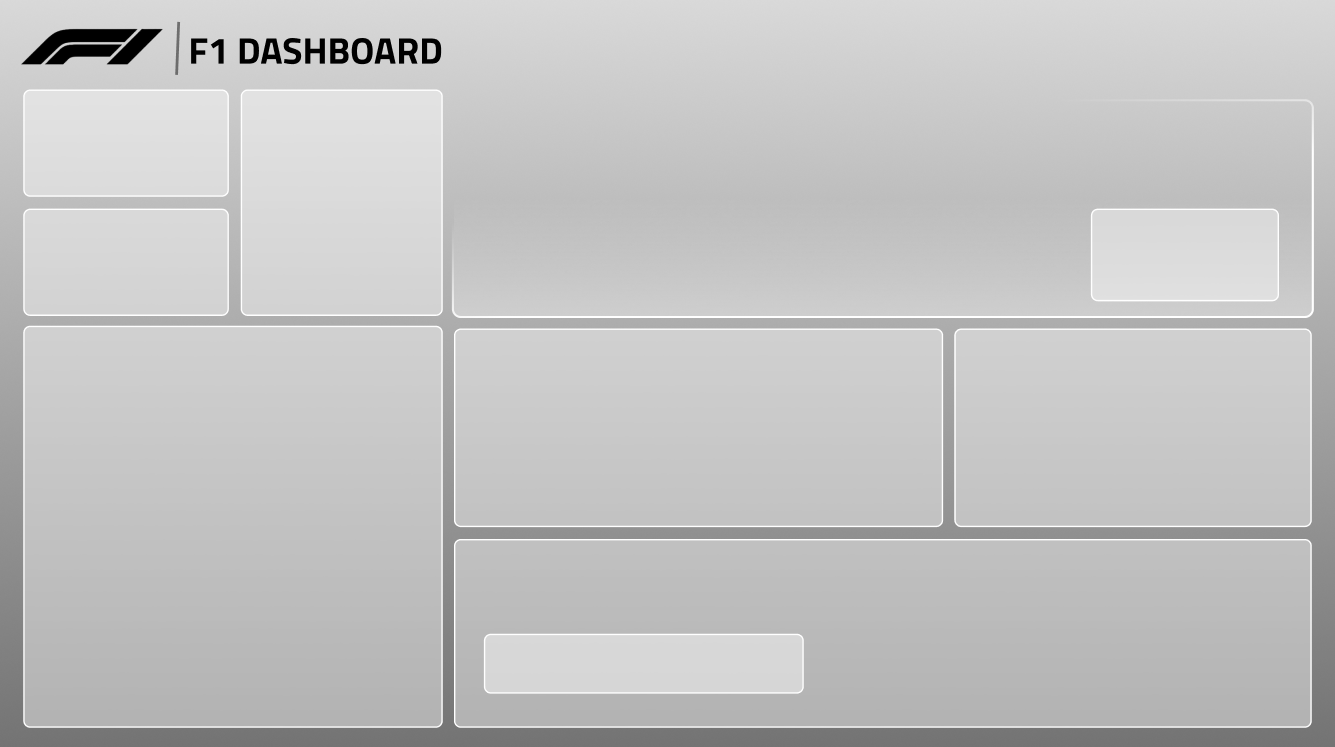

The dashboard page shown, as its layout file describes it:
{"tool":"powerbi","page":{"name":"Page 1","canvas":[1280,720],"ordinal":0},"visuals":[{"type":"cardVisual","fields":{"Data":["_Measure.Total Wins"]},"box":[27.2,90.5,188.7,93.4],"z":0},{"type":"cardVisual","title":"Constructor Points","fields":{"Data":["Sum(f1_data.DNFs)"]},"box":[689.5,578.8,76.5,79.2],"z":1},{"type":"cardVisual","fields":{"Data":["_Measure.Total Points"]},"box":[1040.7,199.4,188.7,93.4],"z":2},{"type":"cardVisual","fields":{"Data":["_Measure.Total Pole Positions"]},"box":[27.2,204.3,188.7,93.4],"z":3},{"type":"clusteredBarChart","fields":{"Category":["f1_data.Driver Name"],"Y":["_Measure.Total Points"]},"box":[27.2,325.8,390.8,364.6],"z":4},{"type":"shape","box":[526.6,183.6,490.6,62.1],"z":5},{"type":"cardVisual","fields":{"Data":["Min(url.url)"]},"box":[426.7,39.6,828.1,258.3],"z":6},{"type":"advancedSlicerVisual","fields":{"Values":["url.constructor"]},"box":[230.5,90.5,196.5,207.2],"z":7},{"type":"columnChart","title":"Podiums","fields":{"Category":["f1_data.Driver Name"],"Y":["_Measure.Total Podiums"]},"box":[446.5,320.5,451.9,178.2],"z":8},{"type":"columnChart","title":"Fasted Laps","fields":{"Category":["f1_data.Driver Name"],"Y":["_Measure.Total Fastest Laps"]},"box":[920.8,316.4,333.7,187.2],"z":9},{"type":"image","box":[152.2,116.4,62.1,39.8],"z":10},{"type":"image","box":[161.9,230.8,42.7,39.8],"z":11},{"type":"clusteredBarChart","title":"Average Position ","fields":{"Category":["f1_data.Driver Name"],"Y":["_Measure.Average Position"]},"box":[779.4,523,475.2,166.9],"z":12},{"type":"textbox","box":[473.5,618.4,185.4,39.6],"z":13},{"type":"cardVisual","fields":{"Data":["Min(f1_data.Constructor)"]},"box":[446.9,515.4,332.4,98.6],"z":14}]}

Visuals, with their boxes in screenshot pixels (x1, y1, x2, y2), scaled from the page's 1280x720 canvas onto the 1335x747 screenshot:
cardVisual - _Measure.Total Wins: BBox(28, 94, 225, 191)
"Constructor Points" cardVisual: BBox(719, 601, 799, 683)
cardVisual - _Measure.Total Points: BBox(1085, 207, 1282, 304)
cardVisual - _Measure.Total Pole Positions: BBox(28, 212, 225, 309)
clusteredBarChart - f1_data.Driver Name x _Measure.Total Points: BBox(28, 338, 436, 716)
shape: BBox(549, 190, 1061, 255)
cardVisual - Min(url.url): BBox(445, 41, 1309, 309)
advancedSlicerVisual - url.constructor: BBox(240, 94, 445, 309)
"Podiums" columnChart: BBox(466, 333, 937, 517)
"Fasted Laps" columnChart: BBox(960, 328, 1308, 522)
image: BBox(159, 121, 224, 162)
image: BBox(169, 239, 213, 281)
"Average Position " clusteredBarChart: BBox(813, 543, 1309, 716)
textbox: BBox(494, 642, 687, 683)
cardVisual - Min(f1_data.Constructor): BBox(466, 535, 813, 637)
